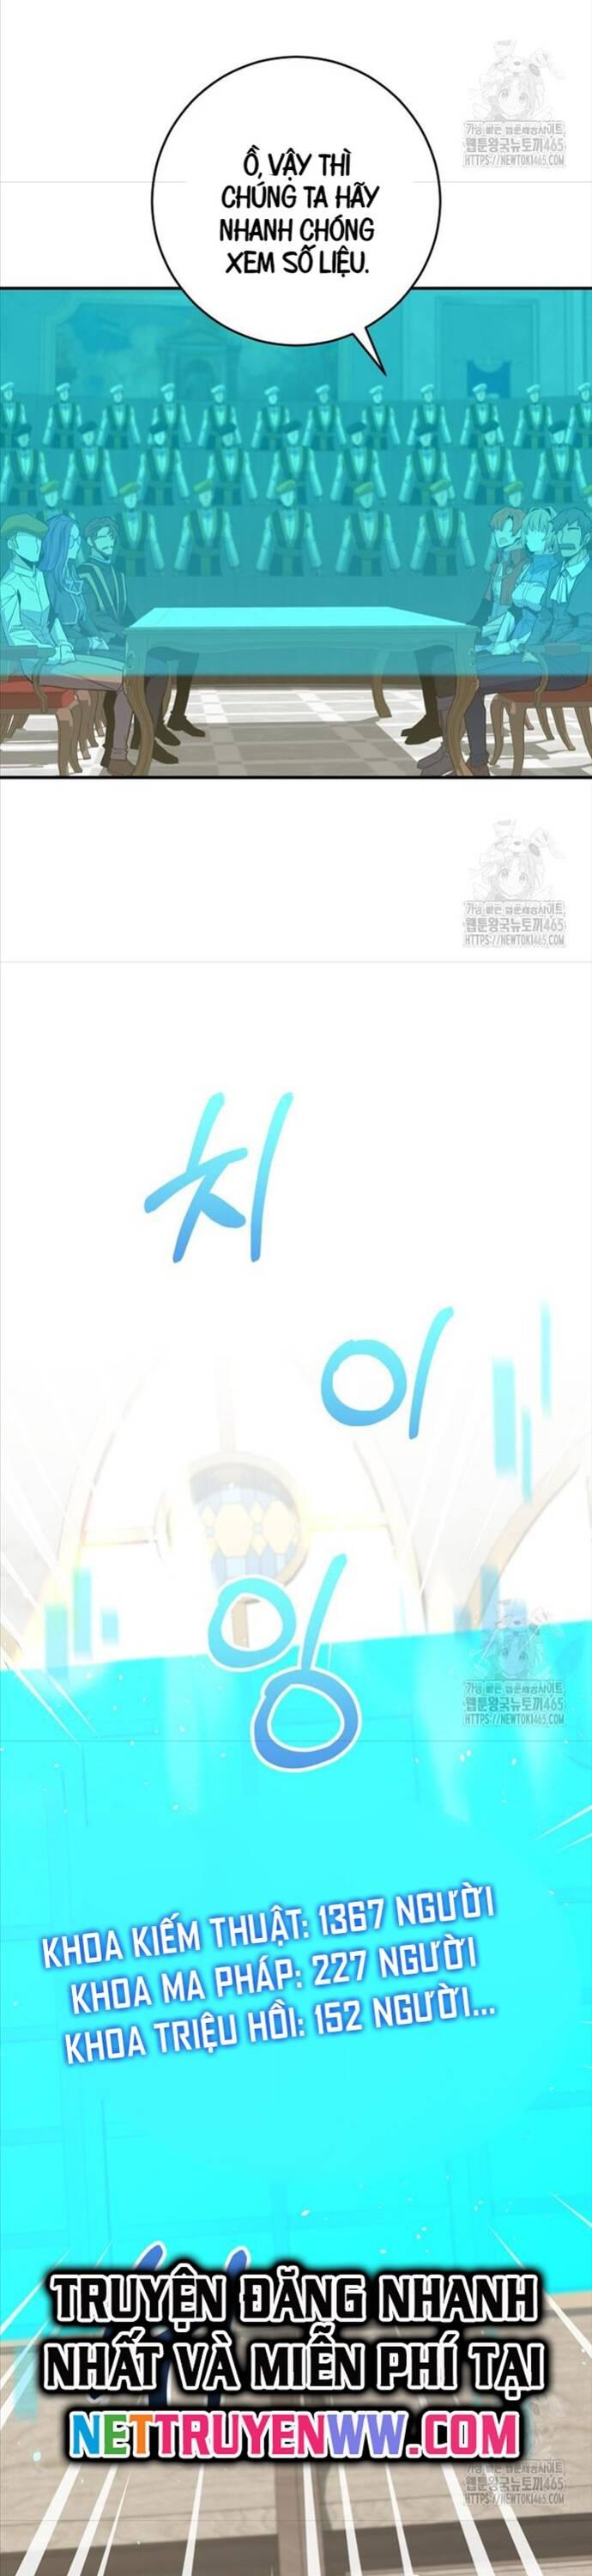quangcao: (43, 2246, 549, 2472)
